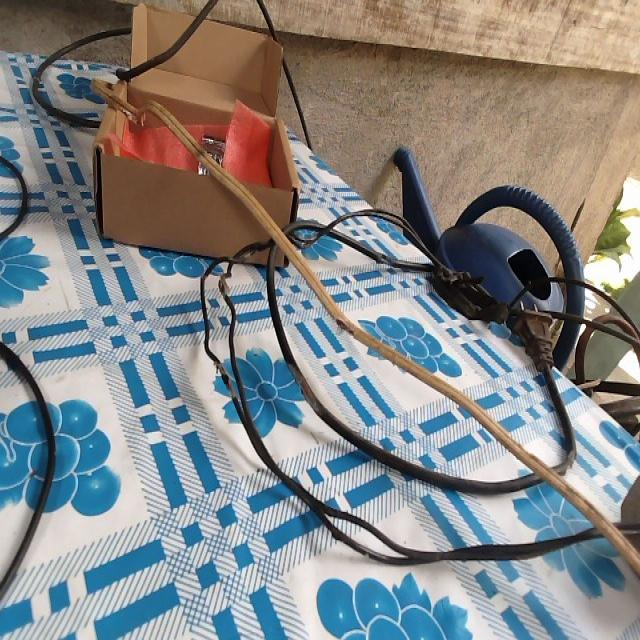-: (284, 357, 316, 407), (213, 361, 237, 396), (333, 313, 352, 332), (216, 279, 233, 293)
